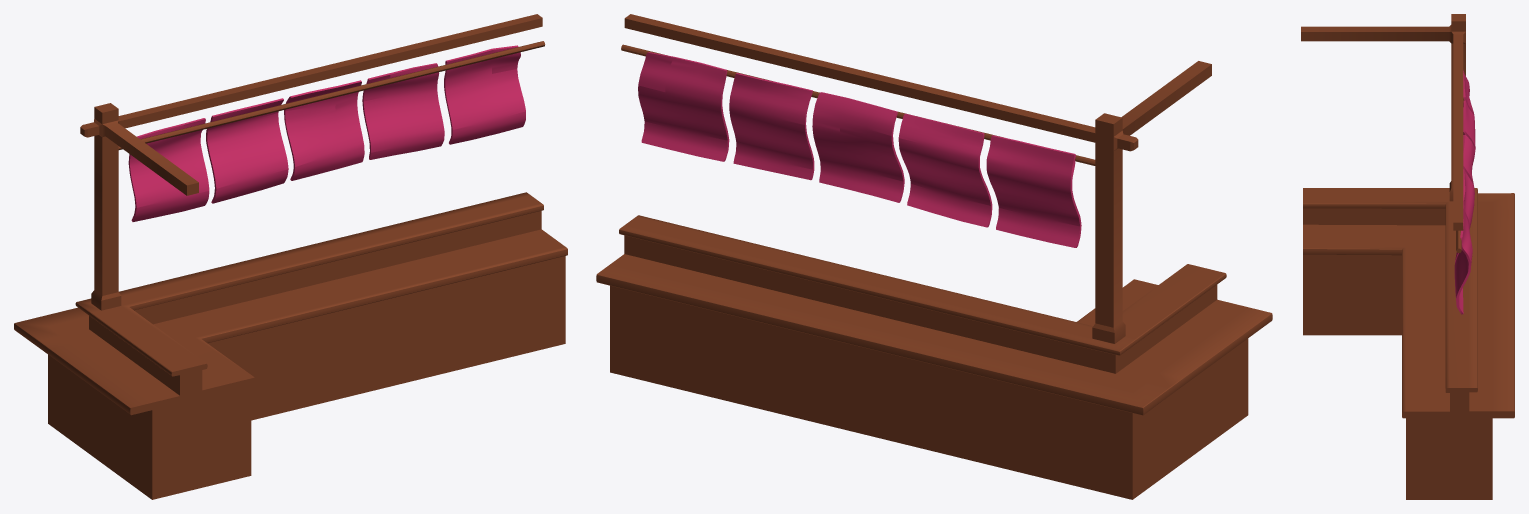
Rendered from Restaurant_Bar_NoTextures.fbx.
The picture shows the model from 3 angles, left to right: view 1: azimuth 30°, elevation 25°; view 2: azimuth 150°, elevation 25°; view 3: azimuth 270°, elevation 25°; orthographic projection. The views are drawn at different scales.
Visible parts, largest first — view 1: m_Bar; view 2: m_Bar; view 3: m_Bar.
Boxes of the visible parts, x1,y1,x2,y2 form: m_Bar: [14, 14, 567, 499]; m_Bar: [596, 14, 1272, 499]; m_Bar: [1301, 14, 1514, 499].
Size of the model in its own units: 1263 by 773 by 515.
